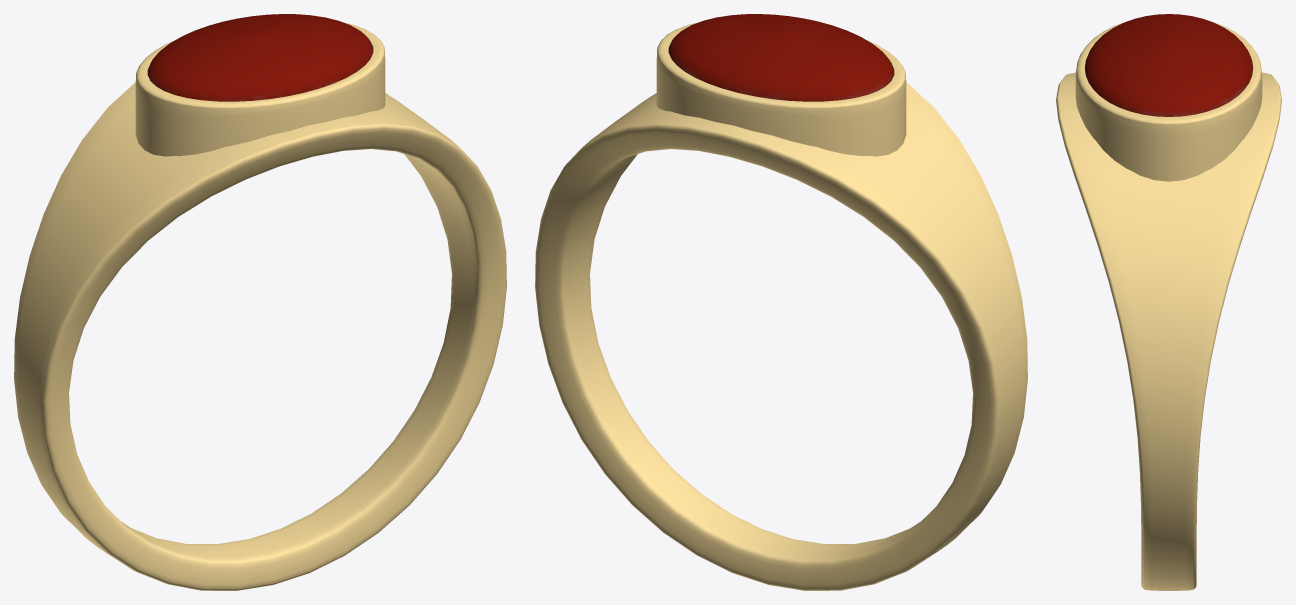
File: ring.glb
3 views of the same model, side by side, from view 1: azimuth 30°, elevation 25°; view 2: azimuth 150°, elevation 25°; view 3: azimuth 270°, elevation 25° (orthographic). The views are drawn at different scales.
Parts seen in each view (by area): view 1: Anel1, Gema1; view 2: Anel1, Gema1; view 3: Anel1, Gema1.
Part boxes in pixels (x1,y1,x2,y2): Anel1: [14, 22, 506, 590]; Gema1: [147, 14, 373, 101]; Anel1: [535, 22, 1027, 590]; Gema1: [668, 14, 894, 101]; Anel1: [1056, 20, 1281, 590]; Gema1: [1085, 14, 1252, 116].
Size of the model in its own units: 1.79 by 2 by 0.7795.
Materials: 2 (2 with a texture image).
